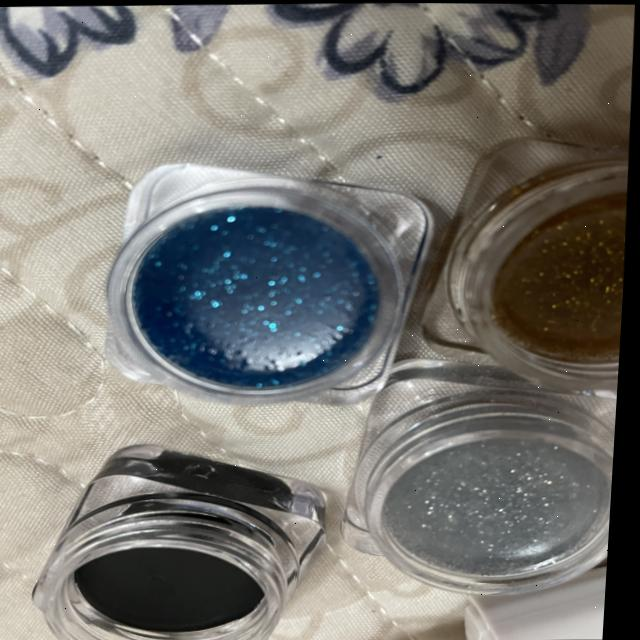eye shade: (80, 129, 437, 422), (335, 362, 623, 606), (26, 433, 340, 640), (405, 140, 634, 415)
